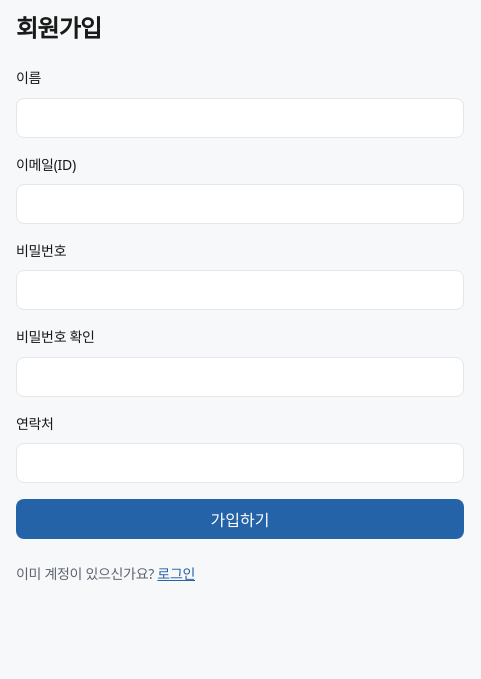
Scenario: 회원가입 서버 오류 표시 › 어느 칸인지 알 수 없는 오류(400)는 폼 전체 안내로 보여준다
Step 1. Type "김색소" into the field labelled "이름" → point(240, 118), box [16,98,464,138]
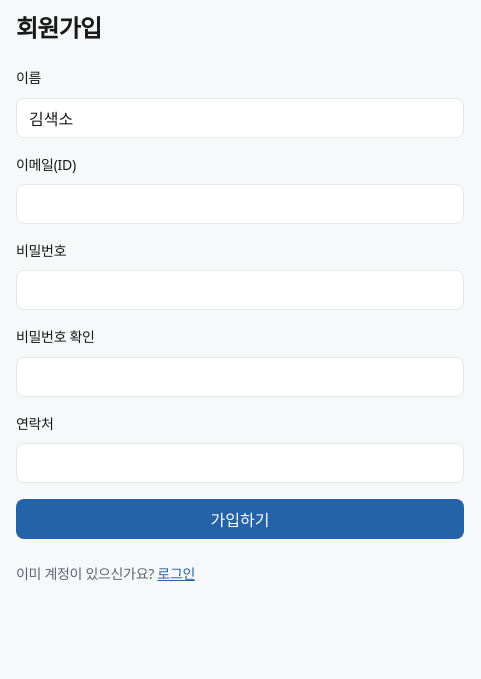
Step 2. Type "sax@example.com" into the field labelled "이메일(ID)" → point(240, 204), box [16,184,464,224]
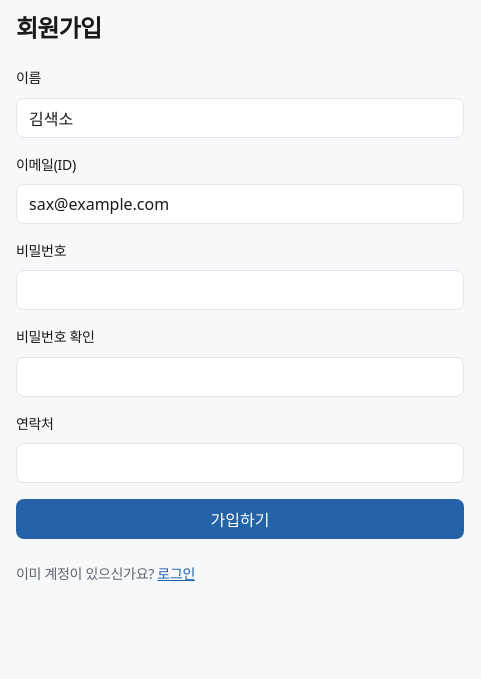
Step 3. Type "password123" into the password field labelled "비밀번호" → point(240, 290), box [16,270,464,310]
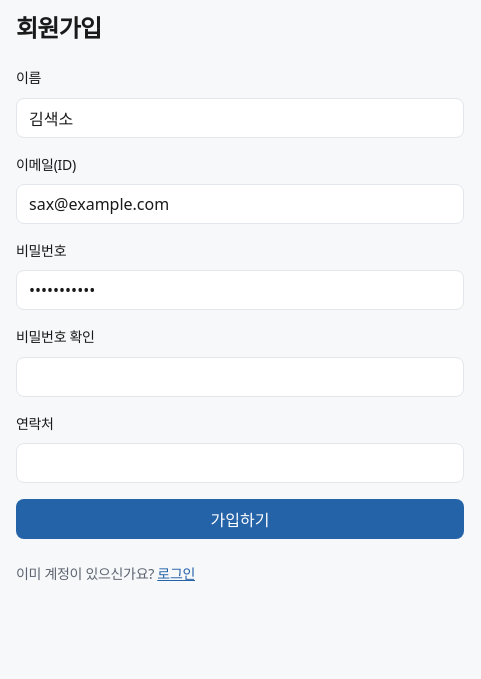
Step 4. Type "password123" into the password field labelled "비밀번호 확인" → point(240, 377), box [16,357,464,397]
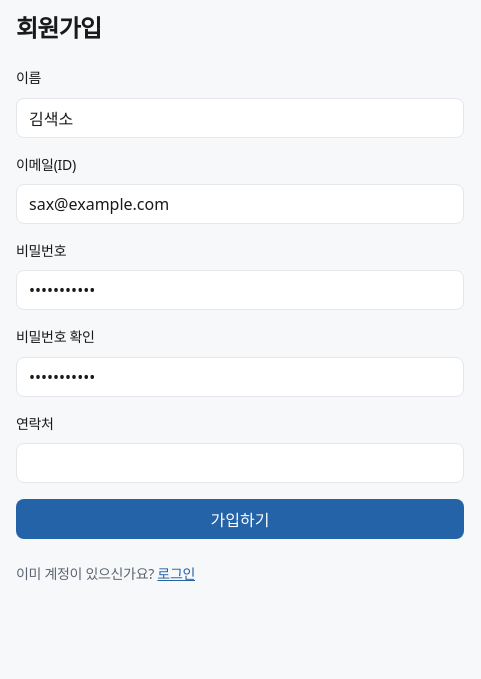
Step 5. Type "010-1234-5678" into the field labelled "연락처" → point(240, 463), box [16,443,464,483]
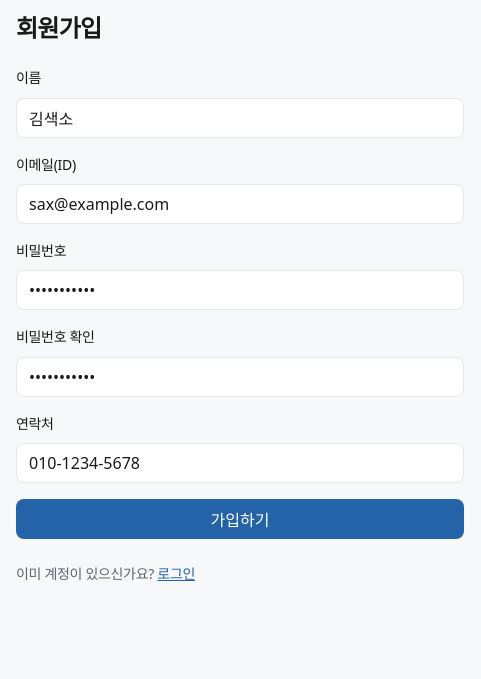
Step 6. Click the button "가입하기" → point(240, 519), box [16,499,464,539]
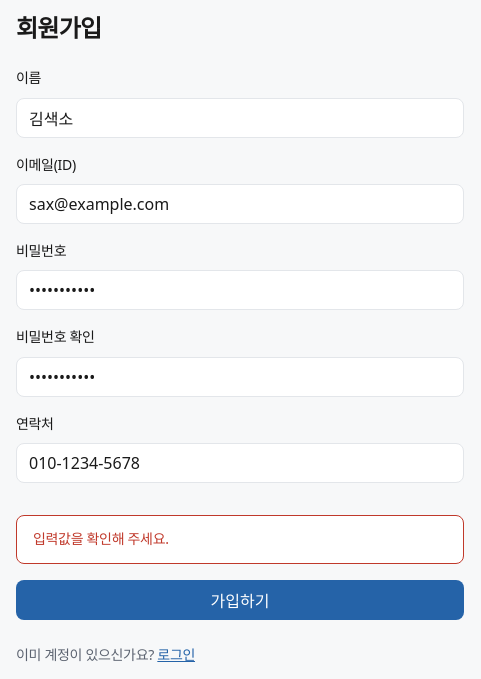
Now the message reads "입력값을 확인해 주세요.", box [33,529,169,548]
